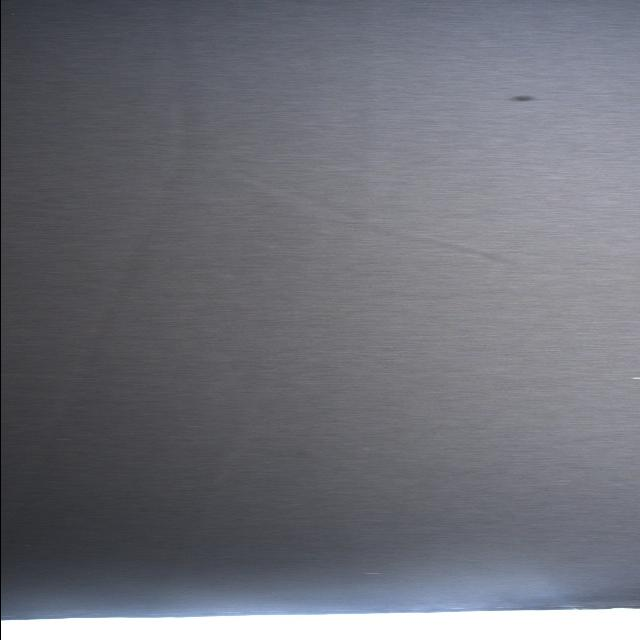crease: (0, 0, 206, 522), (177, 67, 560, 280)
